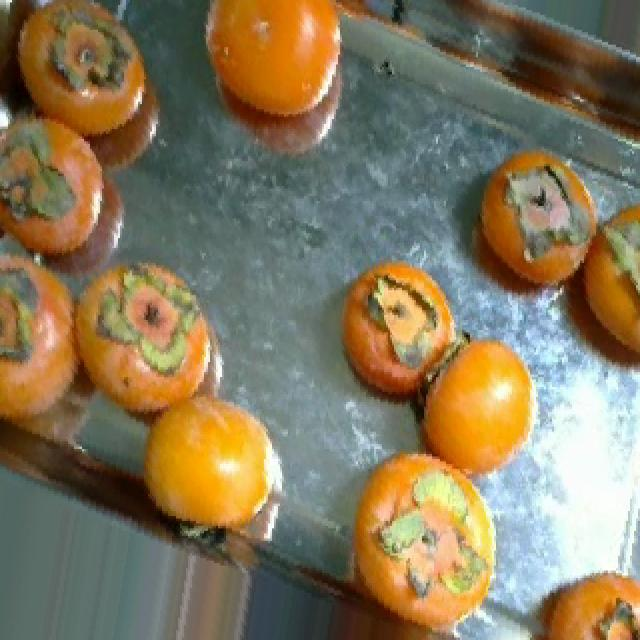Fruit: (186, 0, 366, 186), (402, 318, 548, 501), (452, 134, 594, 320), (326, 243, 462, 424)
